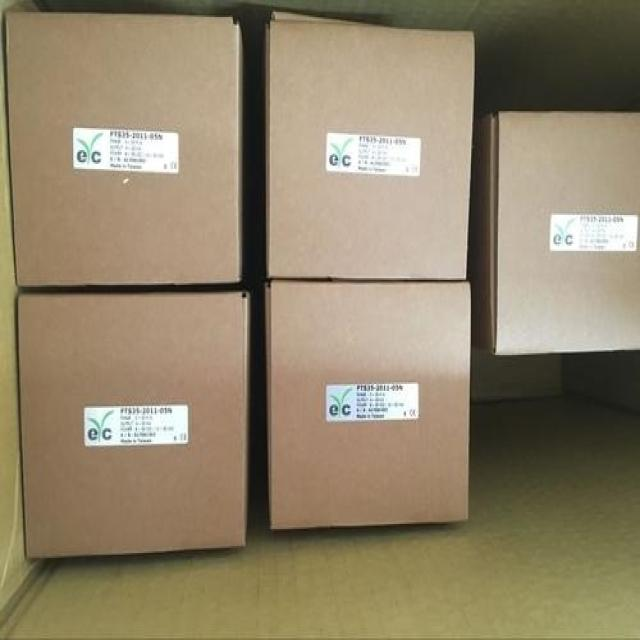box: (6, 12, 243, 287), (17, 292, 251, 560), (265, 7, 475, 280), (264, 280, 470, 531), (474, 111, 640, 358)
